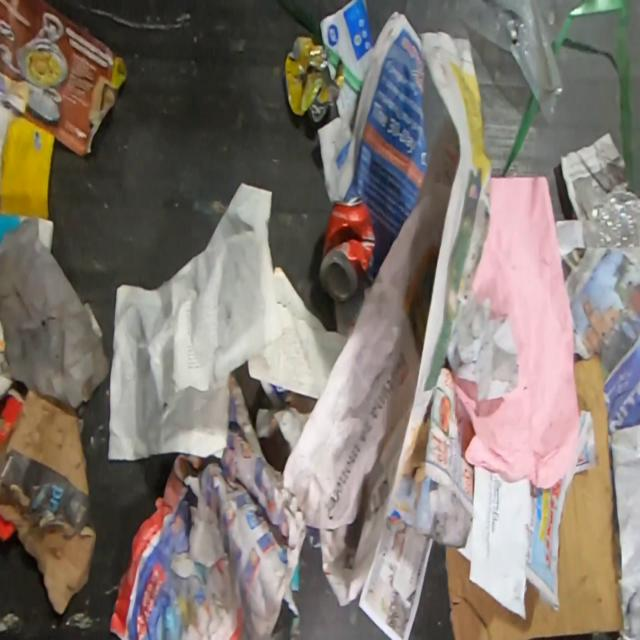cardboard: (445, 353, 624, 640), (0, 388, 96, 617)
metal: (316, 193, 376, 304), (282, 35, 346, 123)
soft_plastic: (404, 0, 564, 122), (582, 189, 640, 248)
